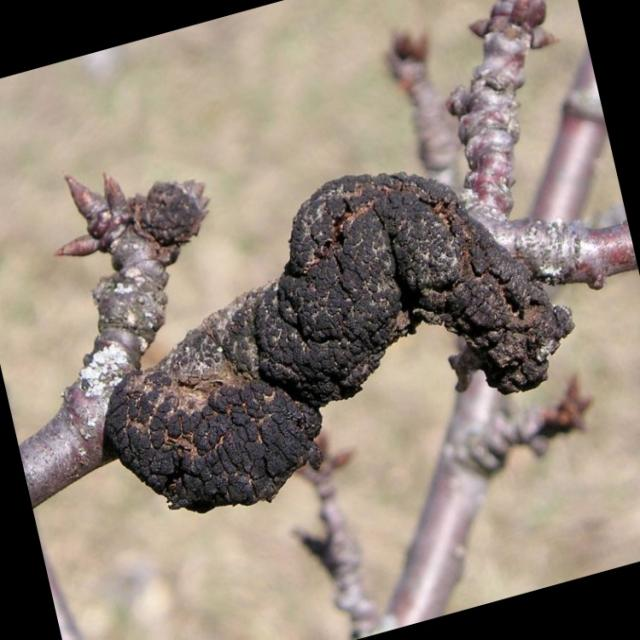Black_knot: (103, 168, 575, 514), (252, 170, 575, 408)
